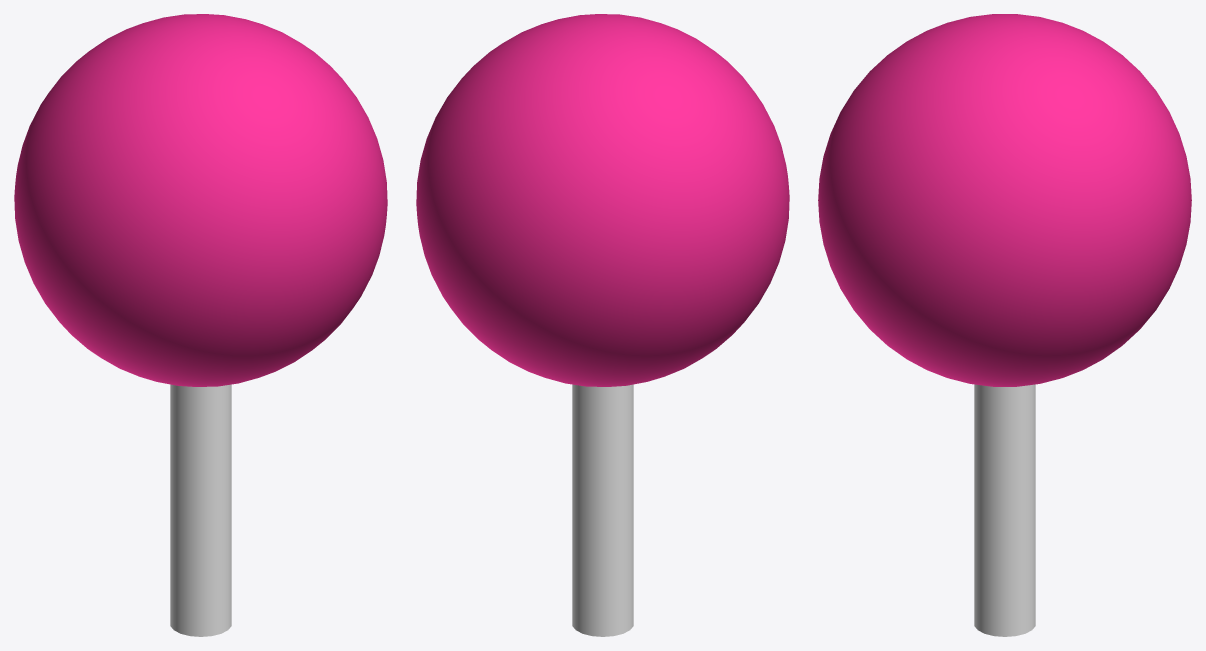
File: PoPcandy.FBX
3 views of the same model, side by side, from view 1: azimuth 30°, elevation 25°; view 2: azimuth 150°, elevation 25°; view 3: azimuth 270°, elevation 25° (orthographic).
Parts seen in each view (by area): view 1: GeoSphere001, Cylinder001; view 2: GeoSphere001, Cylinder001; view 3: GeoSphere001, Cylinder001.
Part boxes in pixels (x1,y1,x2,y2): GeoSphere001: (14,14,387,386); Cylinder001: (170,384,231,636); GeoSphere001: (416,14,789,386); Cylinder001: (572,384,633,636); GeoSphere001: (818,14,1191,386); Cylinder001: (974,384,1035,636).
Size of the model in its own units: 2.99 by 5.25 by 3.
